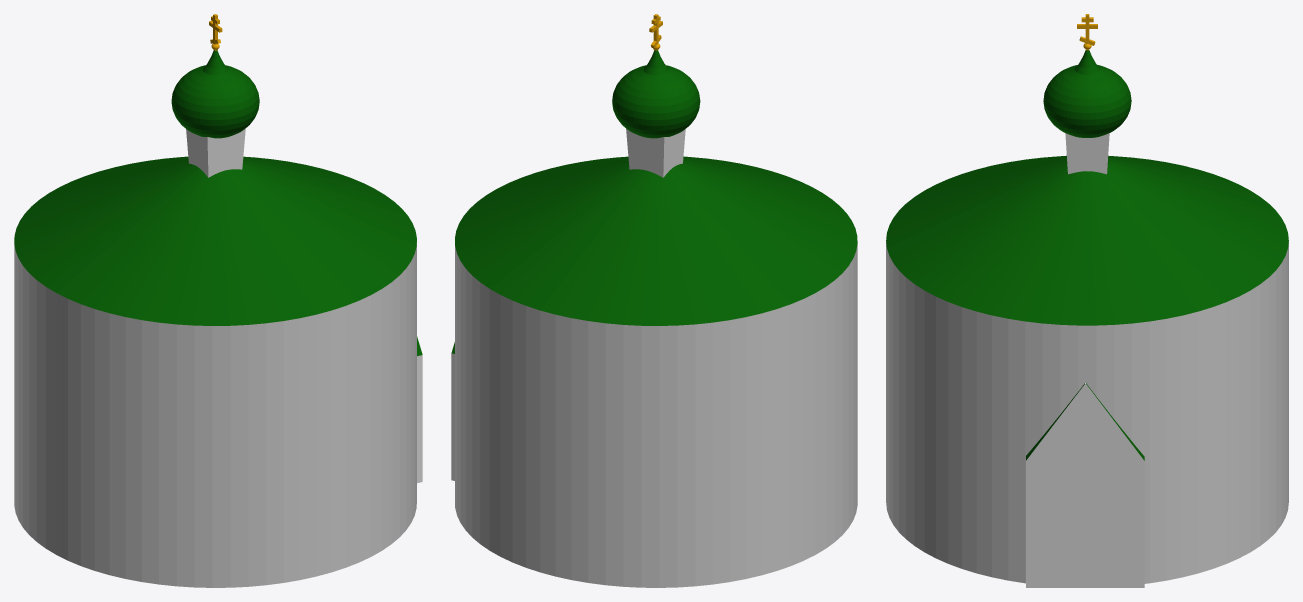
Rendered from twentyfour.gltf.
3 views of the same model, side by side, from view 1: azimuth 30°, elevation 25°; view 2: azimuth 150°, elevation 25°; view 3: azimuth 270°, elevation 25° (orthographic).
Parts seen in each view (by area): view 1: Cube.011; view 2: Cube.011; view 3: Cube.011.
Boxes of the visible parts, x1,y1,x2,y2 form: Cube.011: [14, 14, 422, 587]; Cube.011: [451, 14, 857, 587]; Cube.011: [886, 14, 1288, 587].
Bounding box in the file's own units: 0.3081 × 0.4096 × 0.3066.
